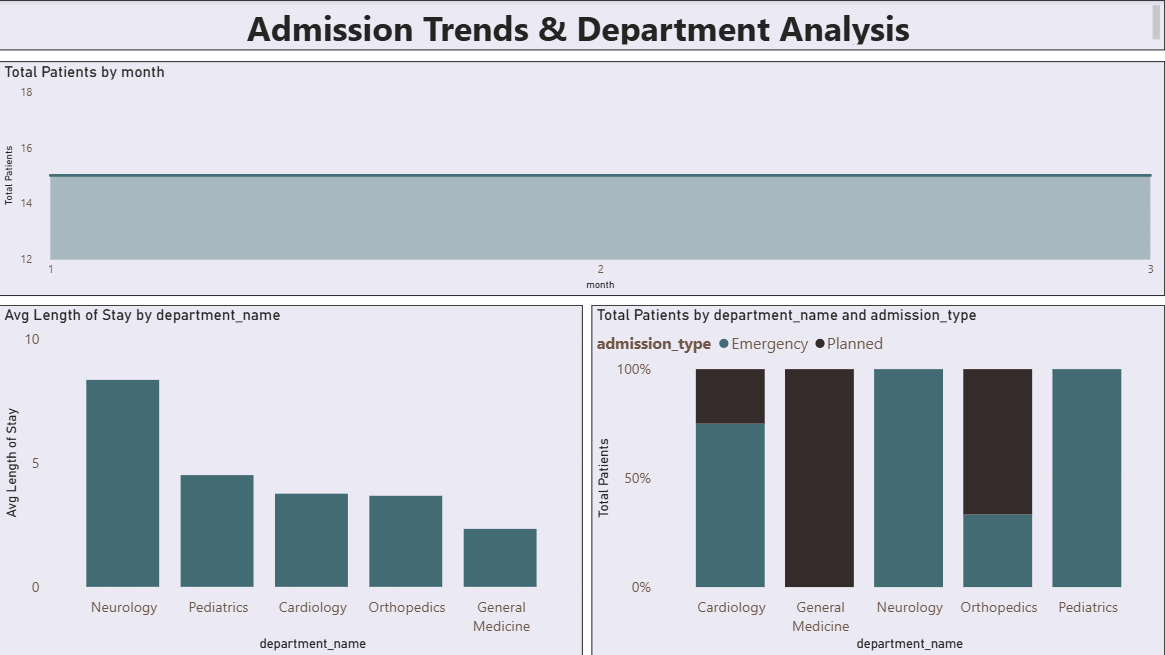

The page's visual inventory and layout, read from the dashboard file:
{"tool":"powerbi","page":{"name":"Trends & Insights","canvas":[1280,720],"ordinal":1},"visuals":[{"type":"columnChart","fields":{"Y":["dim_date.Avg Length of Stay"],"Category":["dim_department.department_name"]},"box":[0,334.8,640.8,385.6],"z":0},{"type":"hundredPercentStackedColumnChart","fields":{"Series":["fact_admissions.admission_type"],"Category":["dim_department.department_name"],"Y":["dim_date.Total Patients"]},"box":[650.4,334.8,629.8,385.6],"z":1000},{"type":"stackedAreaChart","fields":{"Y":["dim_date.Total Patients"],"Category":["dim_date.month"]},"box":[0,67.2,1280.3,258],"z":1001},{"type":"textbox","box":[0,0,1280.3,54.9],"z":1002}]}

Visuals, with their boxes in screenshot pixels (x1, y1, x2, y2), scaled from the page's 1280x720 canvas onto the 1165x655 screenshot:
columnChart - dim_date.Avg Length of Stay x dim_department.department_name: x1=0, y1=305, x2=583, y2=654
hundredPercentStackedColumnChart - fact_admissions.admission_type x dim_department.department_name: x1=592, y1=305, x2=1164, y2=654
stackedAreaChart - dim_date.Total Patients x dim_date.month: x1=0, y1=61, x2=1164, y2=296
textbox: x1=0, y1=0, x2=1164, y2=50
